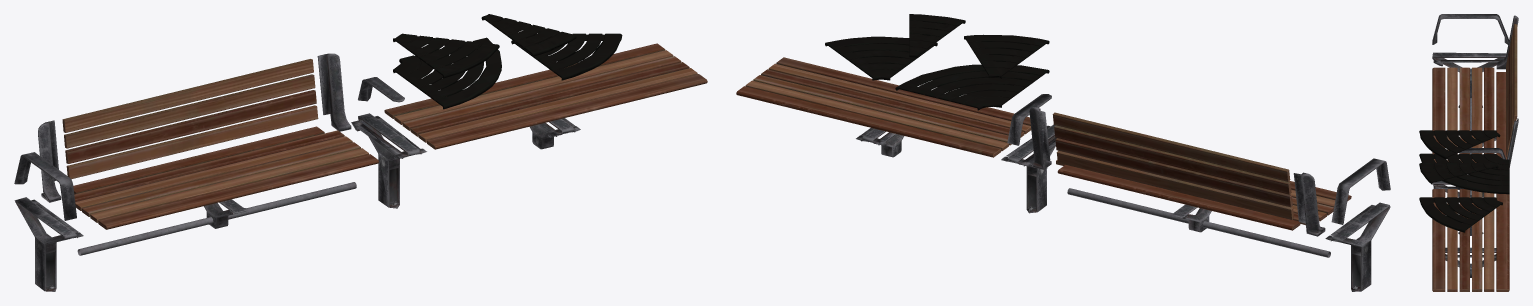
File: modular_street_seating.glb
3 views of the same model, side by side, from view 1: azimuth 30°, elevation 25°; view 2: azimuth 150°, elevation 25°; view 3: azimuth 270°, elevation 25° (orthographic). The views are drawn at different scales.
Parts seen in each view (by area): view 1: seat, seat_back, connector_60, crossbar, legs_double; view 2: seat, seat_back, connector_60, crossbar, legs_double; view 3: seat, connector_60, legs_double, crossbar, seat_back.
Part boxes in pixels (<box>): seat: <box>73,43,707,229</box>; seat_back: <box>62,59,318,179</box>; connector_60: <box>393,14,622,109</box>; crossbar: <box>14,53,404,255</box>; legs_double: <box>14,113,580,291</box>; seat: <box>736,57,1351,230</box>; seat_back: <box>1052,112,1294,219</box>; connector_60: <box>825,14,1049,110</box>; crossbar: <box>1007,94,1390,257</box>; legs_double: <box>856,124,1390,291</box>; seat: <box>1432,67,1509,291</box>; connector_60: <box>1419,130,1509,232</box>; legs_double: <box>1432,52,1506,277</box>; crossbar: <box>1432,14,1518,194</box>; seat_back: <box>1506,24,1517,157</box>.
Bounding box in the file's own units: 4.34 × 0.95 × 0.7703.
4 materials, 4 textured.
